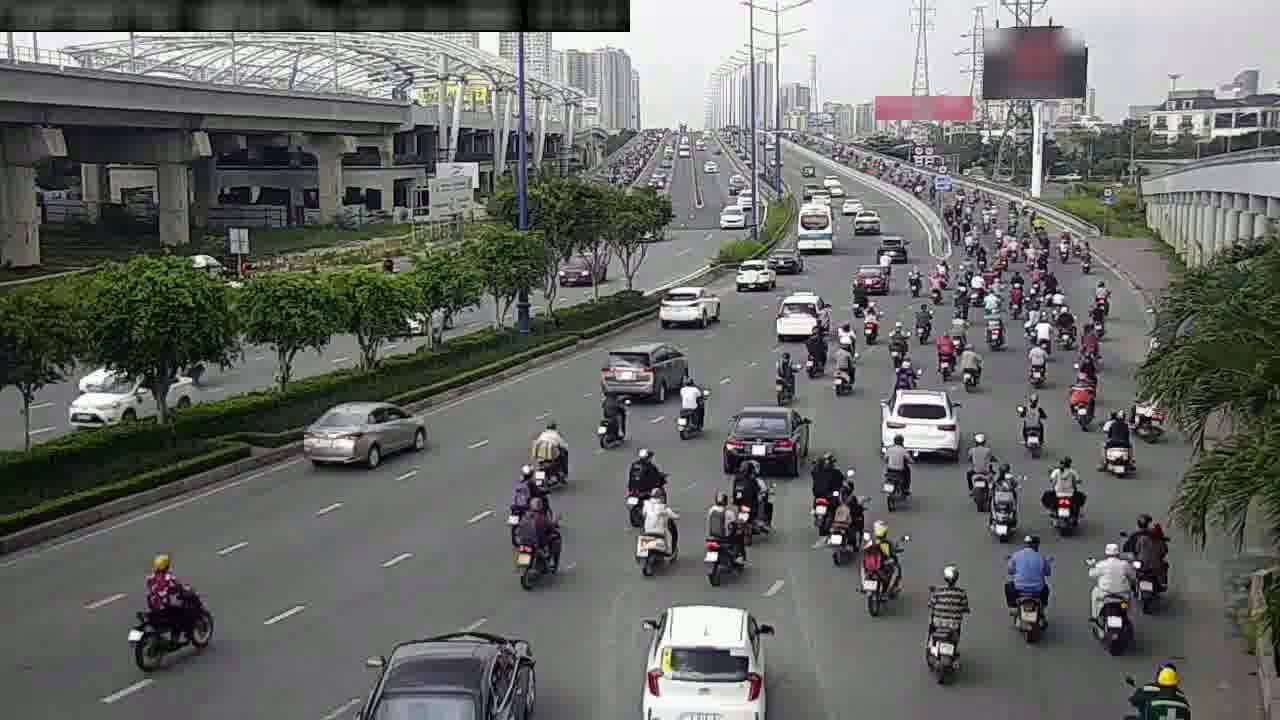14: (791, 199, 834, 249)
container: (635, 595, 764, 720), (375, 623, 534, 707), (302, 393, 427, 470), (722, 397, 807, 473), (598, 333, 689, 401), (885, 384, 959, 460), (655, 279, 714, 330), (774, 288, 828, 340), (733, 253, 778, 293), (851, 256, 892, 295)
motorbike: (129, 547, 219, 666), (998, 525, 1056, 643), (917, 554, 972, 677), (1083, 526, 1140, 644), (511, 497, 571, 589), (1121, 502, 1172, 608), (855, 518, 907, 613), (631, 487, 682, 578), (699, 491, 751, 580), (820, 476, 868, 569), (1042, 454, 1086, 535), (804, 442, 844, 531), (528, 415, 574, 488), (1095, 406, 1138, 481), (621, 440, 665, 512), (876, 428, 916, 506), (983, 465, 1023, 542), (742, 466, 780, 540), (669, 372, 709, 441), (592, 381, 631, 449), (960, 430, 995, 501), (1131, 384, 1171, 446), (1014, 393, 1049, 456), (1063, 365, 1098, 427), (827, 336, 860, 398), (767, 345, 799, 403), (955, 339, 985, 394), (1020, 336, 1051, 389), (800, 325, 828, 379), (981, 302, 1010, 353), (930, 329, 957, 379), (909, 300, 936, 347), (1053, 302, 1079, 349), (885, 321, 910, 368), (1074, 323, 1100, 368), (1084, 290, 1108, 337), (859, 300, 884, 345), (944, 311, 969, 356), (832, 303, 856, 349), (1022, 304, 1047, 346), (893, 354, 917, 391), (925, 265, 947, 304), (902, 259, 925, 296)
